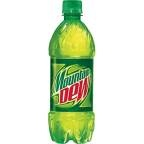grozi_105: (48, 0, 96, 144)
